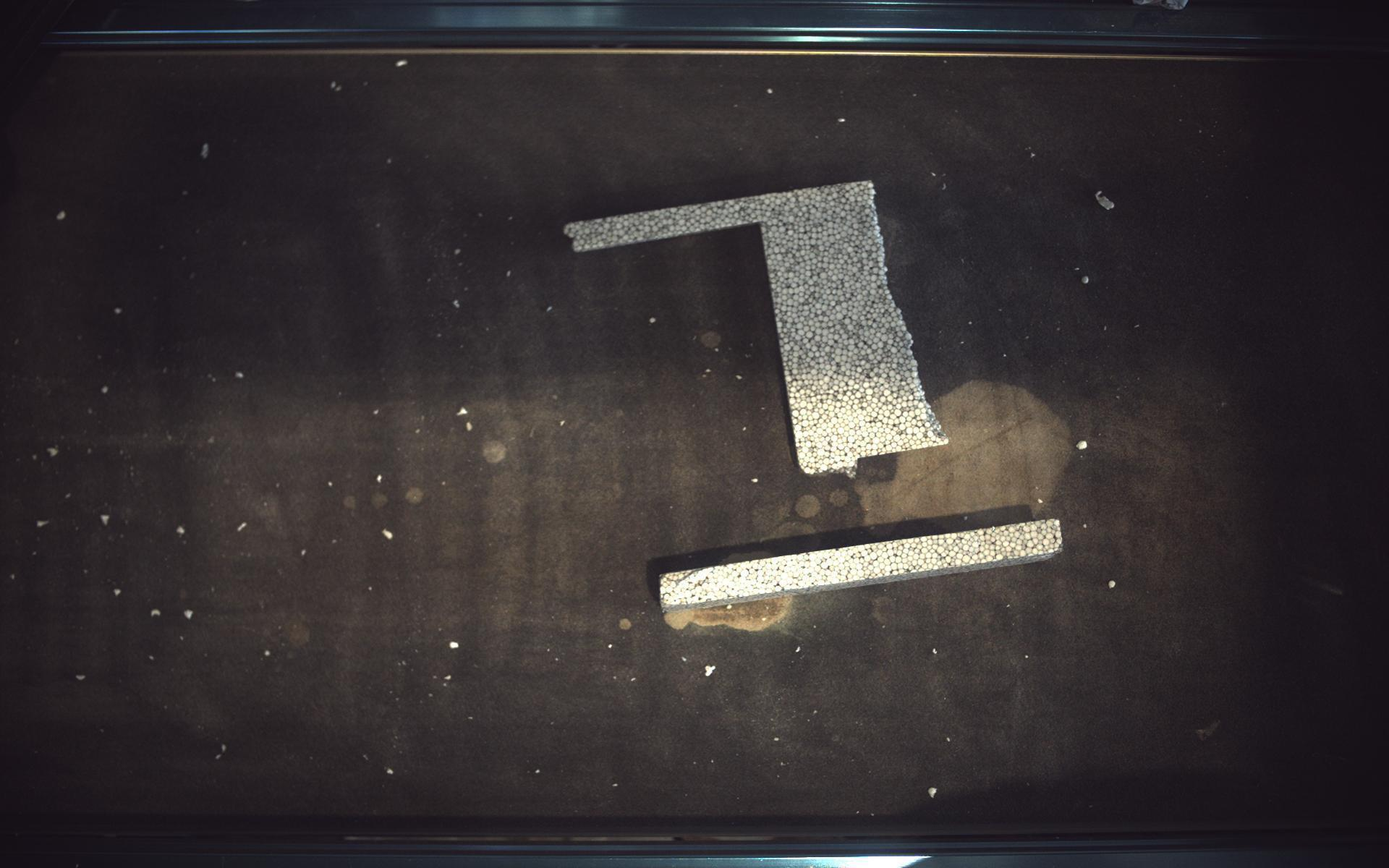foam: (565, 181, 948, 475), (660, 519, 1063, 613)
